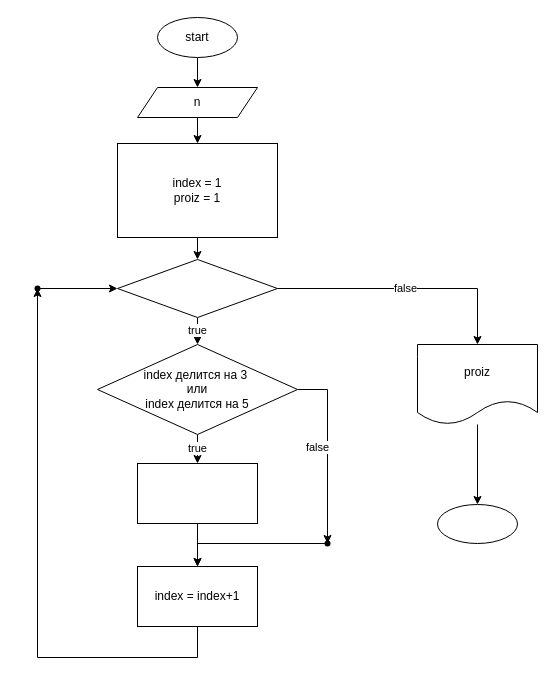
Image size: 555x683. Some labels were removed from this diagram. The shapes that lost their labels are listed below. From the top down, each one's centre as x and y in pixels, then its label:
At [197,288]: "index <= n".
At [197,493]: "proiz = proiz * index".
At [477,524]: "end".
